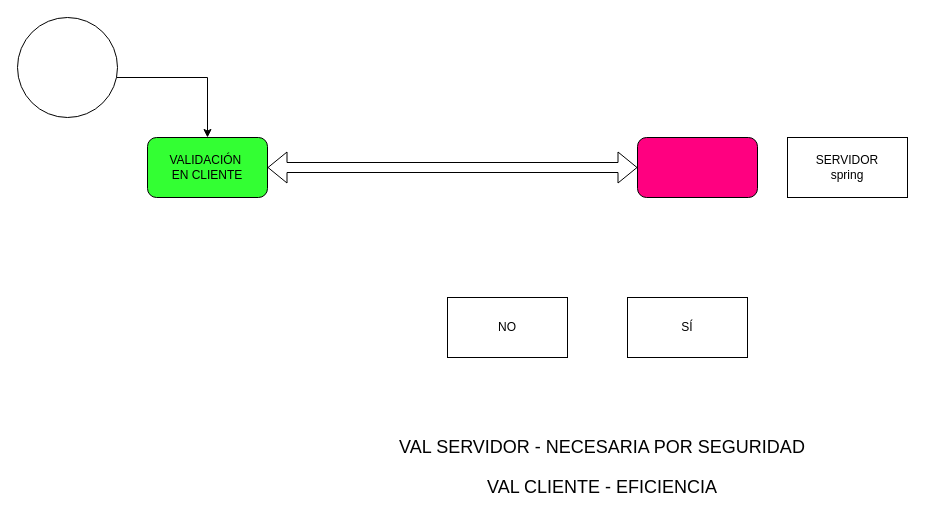
The diagram is 925 pixels wide and 516 high, and some of its shapes have lost their labels. Here are the shapes that lost their labels. From the top down, the box of each, then its label:
(16, 16, 118, 118): Cliente Angular
(636, 136, 758, 198): VALIDACIÓN EN SERVIDOR
